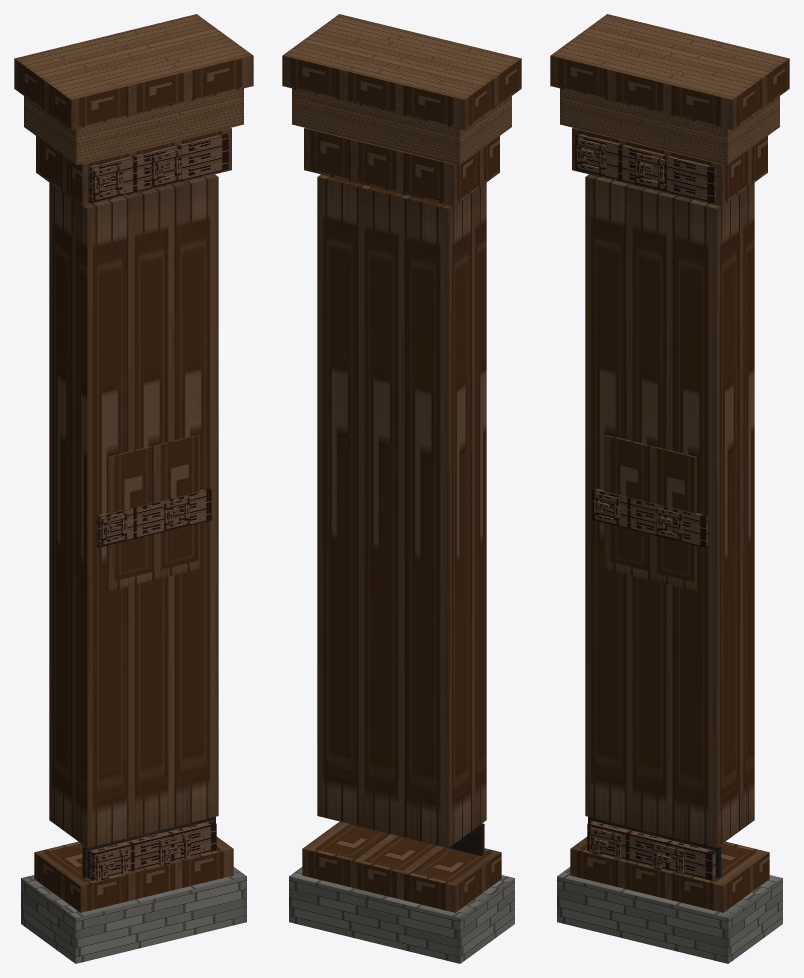
The model's file is ae_duel_wood_pillar_lod1.glb.
3 views of the same model, side by side, from view 1: azimuth 30°, elevation 25°; view 2: azimuth 150°, elevation 25°; view 3: azimuth 330°, elevation 25° (orthographic).
Visible parts, largest first — view 1: ae_duel_wood_pillar_lod1; view 2: ae_duel_wood_pillar_lod1; view 3: ae_duel_wood_pillar_lod1.
Part boxes in pixels (left/top/right/bottom): ae_duel_wood_pillar_lod1: left=14, top=14, right=253, bottom=963; ae_duel_wood_pillar_lod1: left=282, top=14, right=521, bottom=963; ae_duel_wood_pillar_lod1: left=550, top=14, right=789, bottom=963.
Size of the model in its own units: 0.9998 by 4.54 by 0.5398.
1 material, 1 textured.
